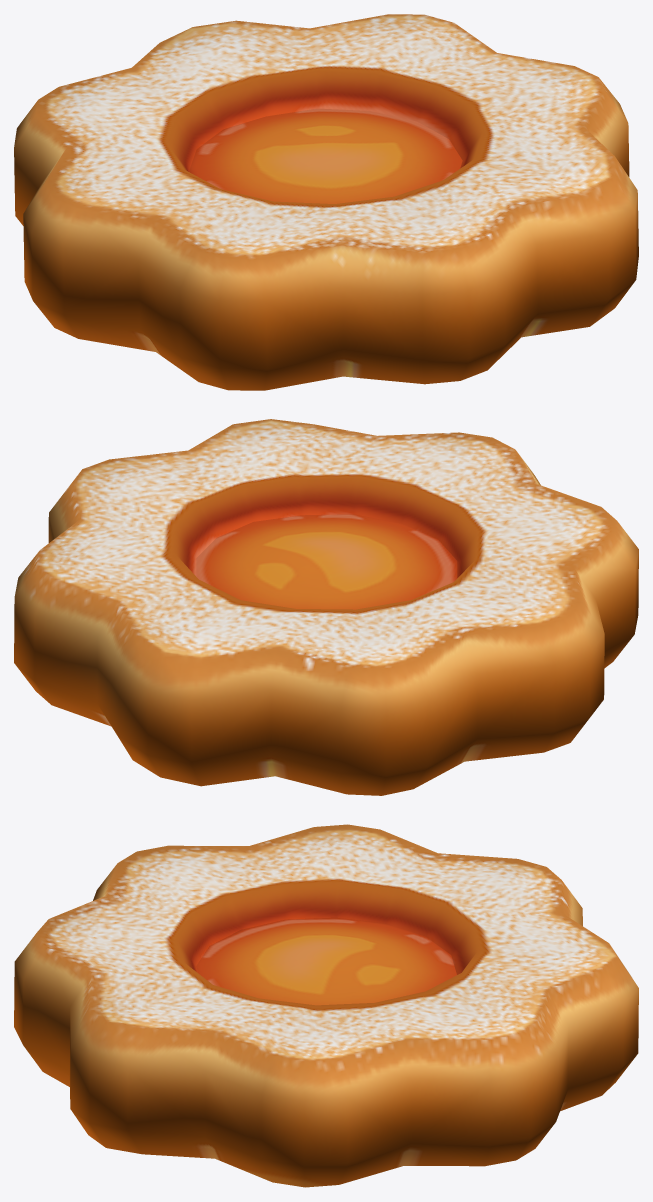
The model's file is 009-Cookies01.FBX.
The picture shows the model from 3 angles, top to bottom: view 1: azimuth 30°, elevation 25°; view 2: azimuth 150°, elevation 25°; view 3: azimuth 270°, elevation 25°; orthographic projection. The views are drawn at different scales.
Parts seen in each view (by area): view 1: 009-Cookies01; view 2: 009-Cookies01; view 3: 009-Cookies01.
Boxes of the visible parts, box(x1,y1,x2,y2) form: 009-Cookies01: box(14, 14, 638, 390); 009-Cookies01: box(14, 419, 638, 795); 009-Cookies01: box(14, 824, 638, 1187).
Bounding box in the file's own units: 12.94 × 3.14 × 12.94.
